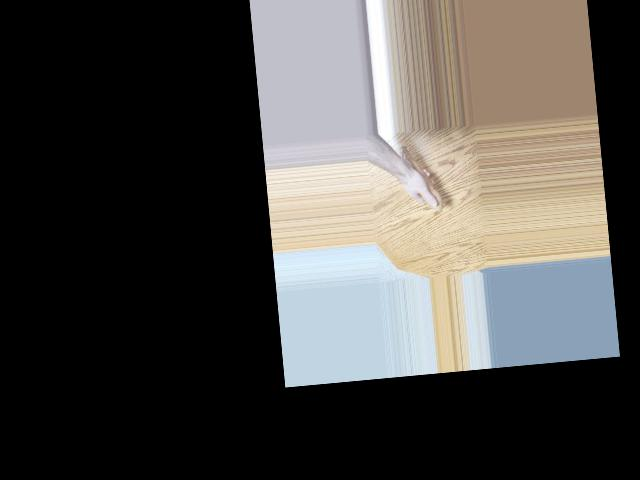sweet_potato: (397, 141, 441, 211)
